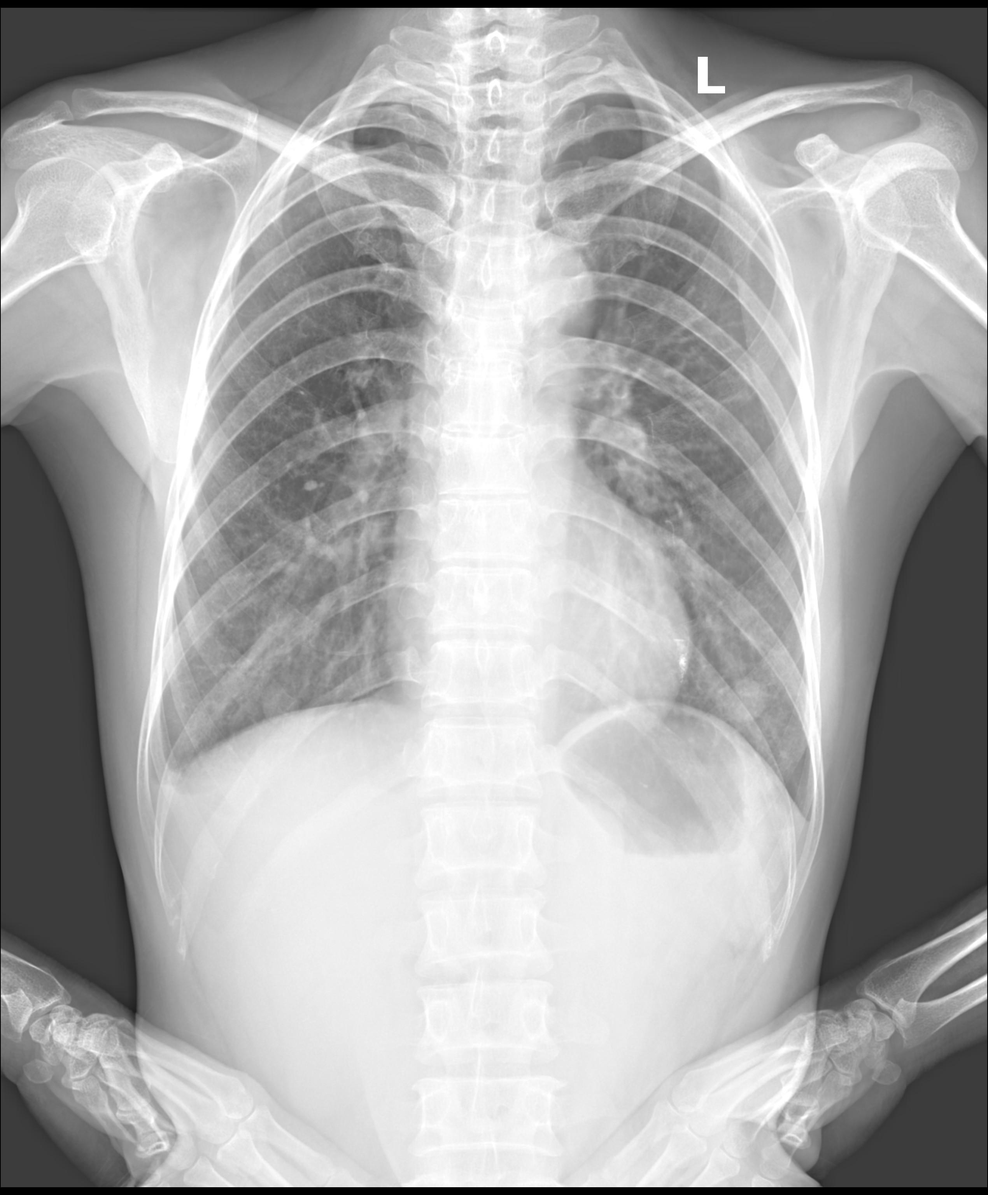Pleural thickening: (140, 709, 184, 819)
